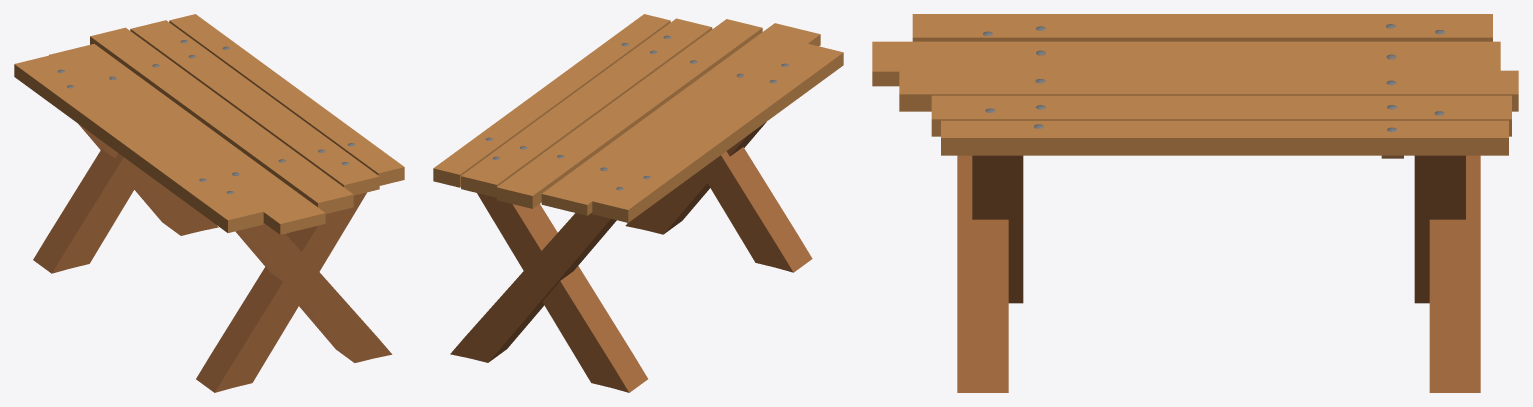
Rendered from wooden_table1.fbx.
3 views of the same model, side by side, from view 1: azimuth 30°, elevation 25°; view 2: azimuth 150°, elevation 25°; view 3: azimuth 270°, elevation 25° (orthographic). The views are drawn at different scales.
Parts seen in each view (by area): view 1: Cube.001, Cube, Cube.002, Cube.003, Cube.006, Cube.005, Cube.008, Cube.004, Cube.007; view 2: Cube.001, Cube, Cube.002, Cube.008, Cube.003, Cube.007, Cube.006, Cube.004, Cube.005; view 3: Cube.004, Cube.001, Cube.002, Cube, Cube.003, Cube.005, Cube.007, Cube.008, Cube.006.
Part boxes in pixels (left/top/right/bottom): Cube.001: left=49, top=44, right=325, bottom=234; Cube: left=14, top=55, right=263, bottom=232; Cube.002: left=90, top=27, right=353, bottom=213; Cube.003: left=130, top=20, right=379, bottom=195; Cube.006: left=196, top=192, right=366, bottom=392; Cube.005: left=235, top=223, right=392, bottom=362; Cube.008: left=33, top=149, right=144, bottom=273; Cube.004: left=169, top=14, right=404, bottom=185; Cube.007: left=78, top=124, right=218, bottom=235; Cube.001: left=541, top=23, right=820, bottom=215; Cube: left=592, top=43, right=843, bottom=222; Cube.002: left=496, top=19, right=762, bottom=208; Cube.008: left=477, top=193, right=647, bottom=392; Cube.003: left=461, top=18, right=712, bottom=197; Cube.007: left=450, top=212, right=616, bottom=362; Cube.006: left=700, top=147, right=812, bottom=272; Cube.004: left=433, top=14, right=670, bottom=187; Cube.005: left=625, top=122, right=766, bottom=234; Cube.004: left=941, top=120, right=1508, bottom=155; Cube.001: left=872, top=41, right=1500, bottom=86; Cube.002: left=899, top=70, right=1518, bottom=111; Cube: left=912, top=14, right=1492, bottom=41; Cube.003: left=931, top=95, right=1511, bottom=136; Cube.005: left=957, top=155, right=1008, bottom=392; Cube.007: left=1429, top=155, right=1480, bottom=392; Cube.008: left=1414, top=155, right=1465, bottom=303; Cube.006: left=972, top=155, right=1023, bottom=303.
Size of the model in its own units: 308 by 301 by 679.
